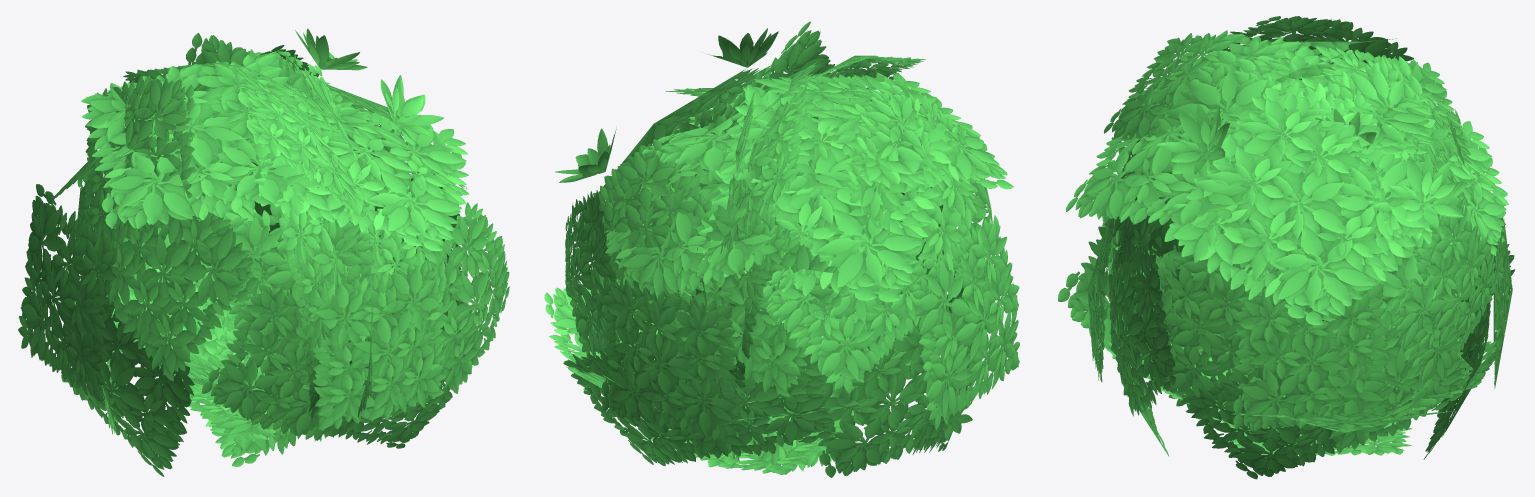
File: Leave.fbx
3 renders of one model, left to right at view 1: azimuth 30°, elevation 25°; view 2: azimuth 150°, elevation 25°; view 3: azimuth 270°, elevation 25°, orthographic.
Parts seen in each view (by area): view 1: Leave_A, Leave_B; view 2: Leave_A, Leave_B; view 3: Leave_A, Leave_B.
Boxes of the visible parts, <box> form: Leave_A: <box>18,28,509,476</box>; Leave_B: <box>123,33,383,466</box>; Leave_A: <box>544,28,1019,477</box>; Leave_B: <box>677,21,942,471</box>; Leave_A: <box>1066,16,1512,479</box>; Leave_B: <box>1058,30,1515,394</box>.
Size of the model in its own units: 192 by 181 by 186.
